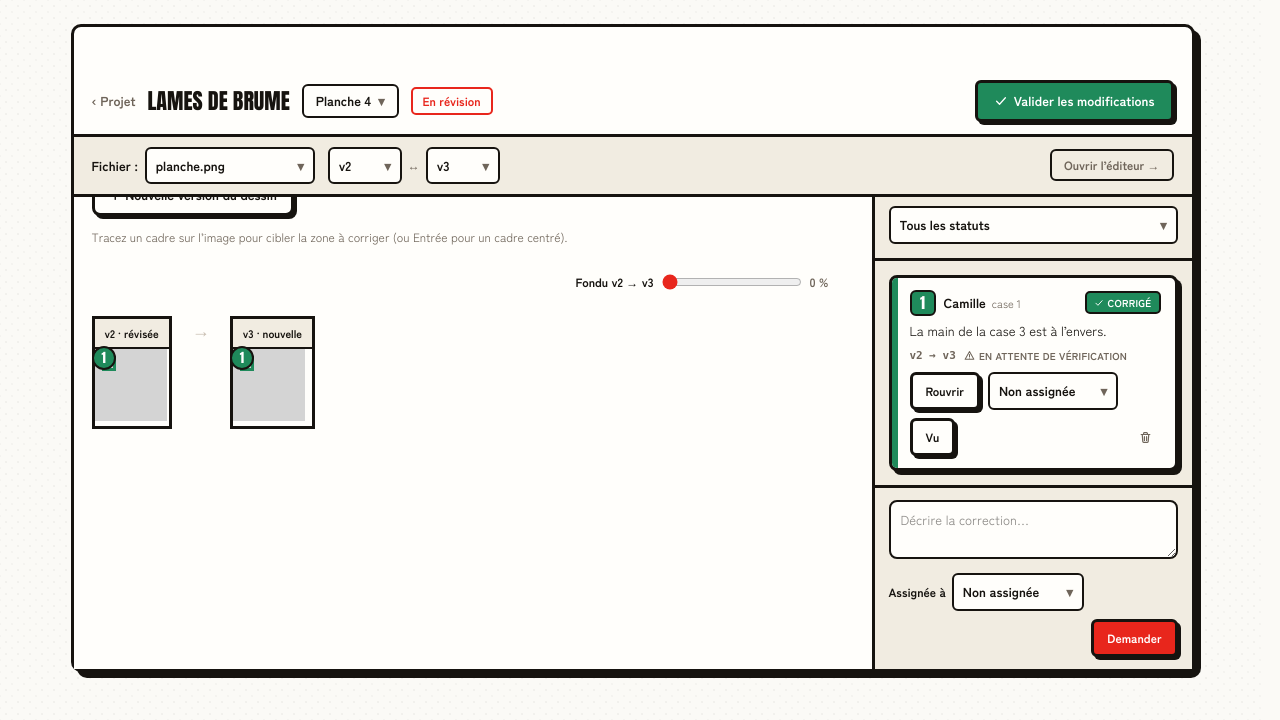
ReviewClient — CS-24 verification loop › surfaces the API refusal on the row when verify fails
The image size is (1280, 720).
Click the button "Vu".
click(932, 437)  # box [910,418,955,456]
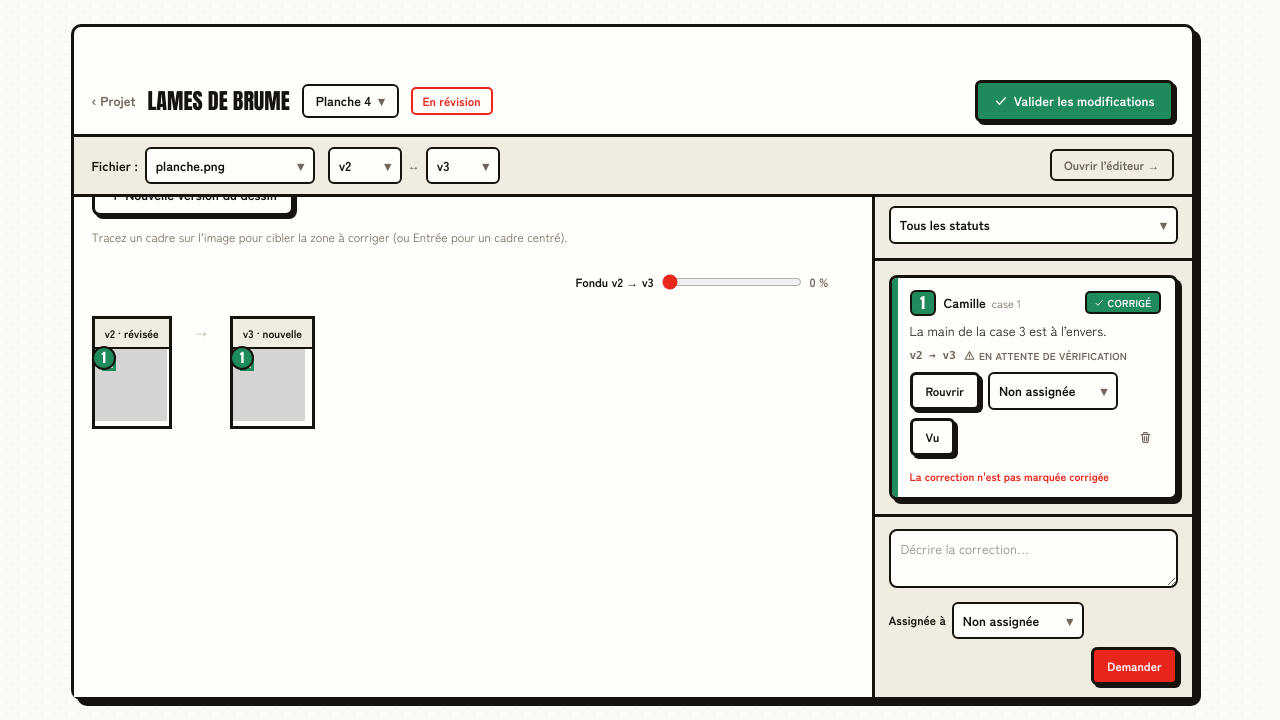
Result: the message reads "La correction n'est pas marquée corrigée" at [910,468,1109,484]
